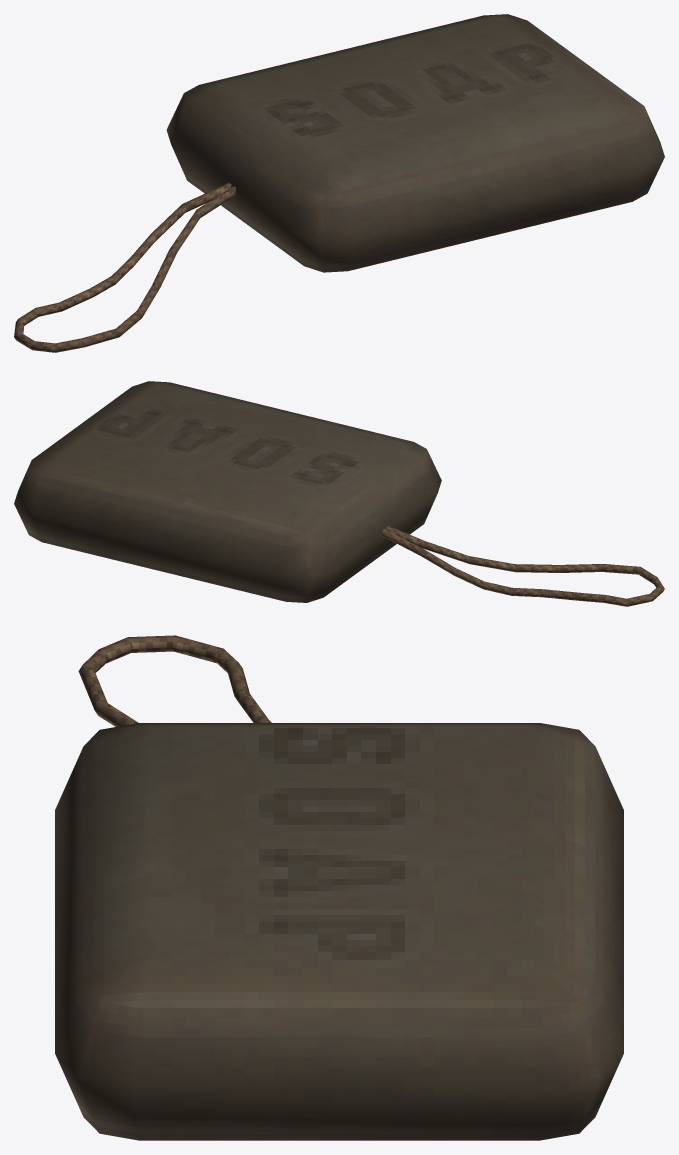
Rendered from soap_mx_2.glb.
3 views of the same model, one above another, from view 1: azimuth 30°, elevation 25°; view 2: azimuth 150°, elevation 25°; view 3: azimuth 270°, elevation 25° (orthographic). The views are drawn at different scales.
Parts seen in each view (by area): view 1: soap_mx_2; view 2: soap_mx_2; view 3: soap_mx_2.
Part boxes in pixels (<box>): soap_mx_2: <box>14,14,664,352</box>; soap_mx_2: <box>14,381,664,606</box>; soap_mx_2: <box>55,635,623,1140</box>.
Bounding box in the file's own units: 0.2411 × 0.039 × 0.1092.
Materials: 1 (1 with a texture image).
